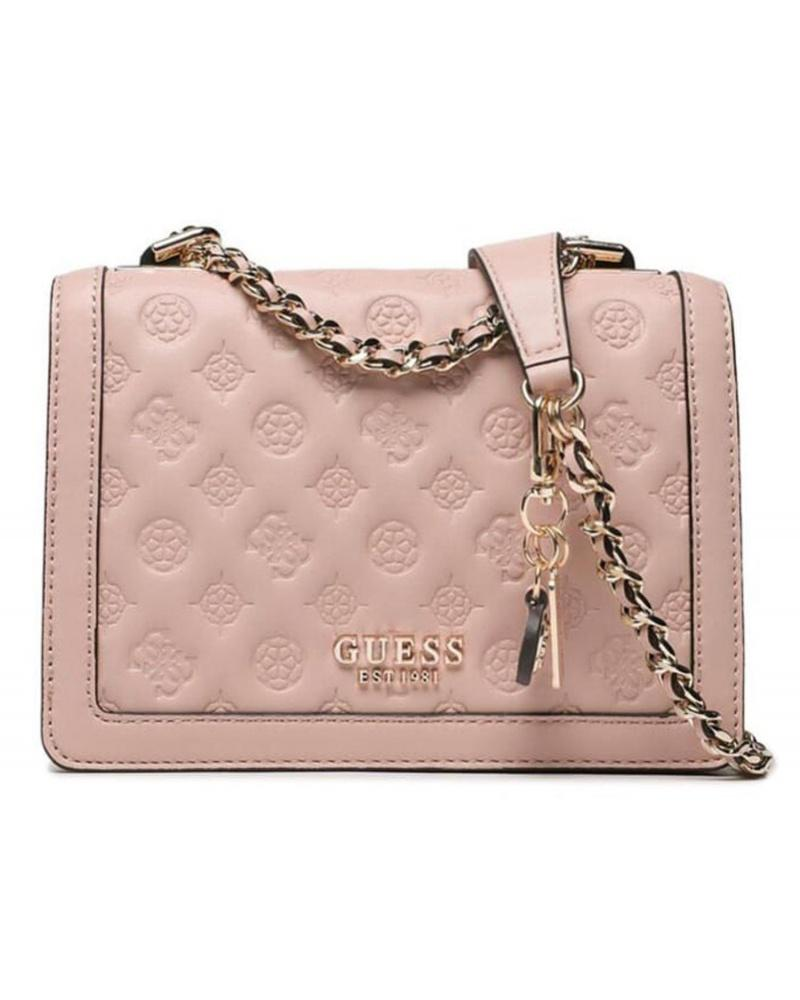GUESS: (333, 635, 463, 665)
